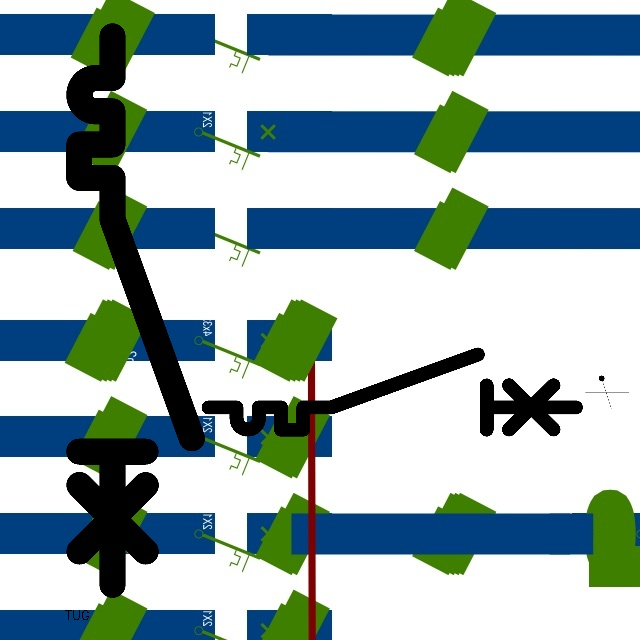interruptor_termomagnetico: (65, 22, 206, 599), (199, 345, 585, 439)
